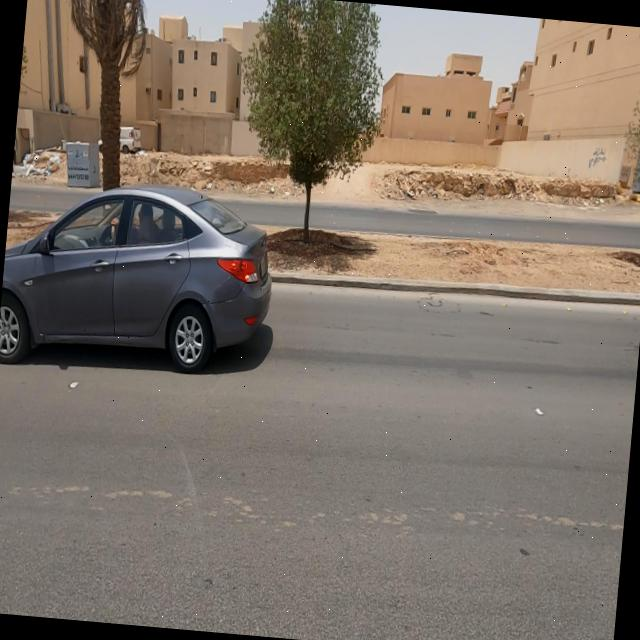Graffiti: (588, 146, 609, 170)
